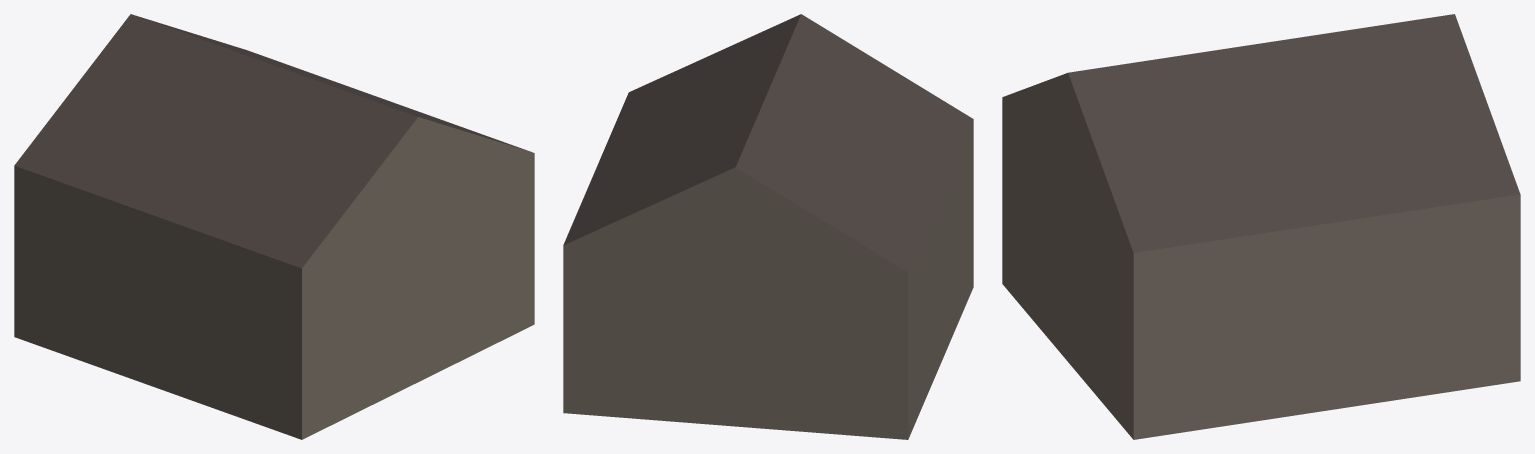
The picture shows the model from 3 angles, left to right: view 1: azimuth 30°, elevation 25°; view 2: azimuth 150°, elevation 25°; view 3: azimuth 270°, elevation 25°; orthographic projection. The views are drawn at different scales.
Parts seen in each view (by area): view 1: HP-w859078917; view 2: HP-w859078917; view 3: HP-w859078917.
Boxes of the visible parts, x1=… form: HP-w859078917: x1=14, y1=14, x2=534, y2=439; HP-w859078917: x1=563, y1=14, x2=973, y2=439; HP-w859078917: x1=1002, y1=14, x2=1520, y2=439.
Bounding box in the file's own units: 14.77 × 9.29 × 15.07.
